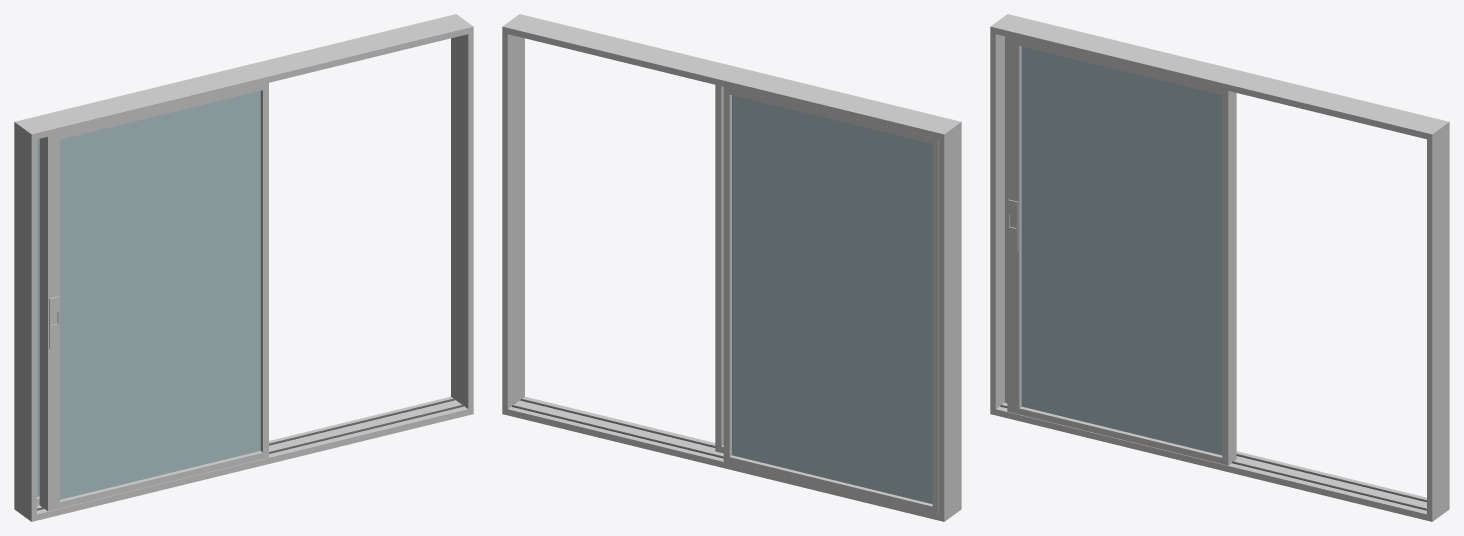
The model's file is Window.glb.
3 views of the same model, side by side, from view 1: azimuth 30°, elevation 25°; view 2: azimuth 150°, elevation 25°; view 3: azimuth 330°, elevation 25° (orthographic).
Parts seen in each view (by area): view 1: Mesh_Mesh_head_geo.001_lambert2SG.001; view 2: Mesh_Mesh_head_geo.001_lambert2SG.001; view 3: Mesh_Mesh_head_geo.001_lambert2SG.001.
Part boxes in pixels (x1,y1,x2,y2): Mesh_Mesh_head_geo.001_lambert2SG.001: (14, 14, 473, 521); Mesh_Mesh_head_geo.001_lambert2SG.001: (502, 14, 961, 521); Mesh_Mesh_head_geo.001_lambert2SG.001: (990, 14, 1449, 521).
Bounding box in the file's own units: 0.074 × 0.062 × 0.0051.
